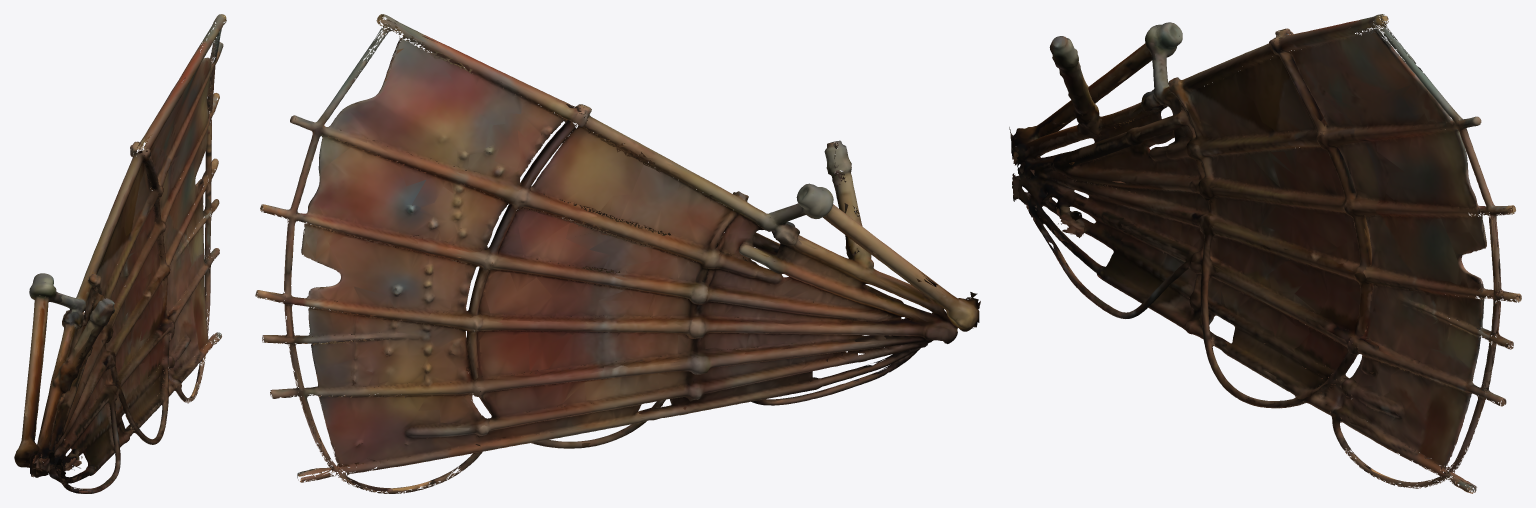
Rendered from ala.obj.
3 views of the same model, side by side, from view 1: azimuth 30°, elevation 25°; view 2: azimuth 150°, elevation 25°; view 3: azimuth 270°, elevation 25° (orthographic). The views are drawn at different scales.
Parts seen in each view (by area): view 1: ala_Material.001; view 2: ala_Material.001; view 3: ala_Material.001.
Part boxes in pixels (x1=…): ala_Material.001: x1=14, y1=14, x2=226, y2=493; ala_Material.001: x1=255, y1=14, x2=980, y2=493; ala_Material.001: x1=1009, y1=14, x2=1521, y2=493.
Size of the model in its own units: 0.7961 by 0.7302 by 0.7013.
